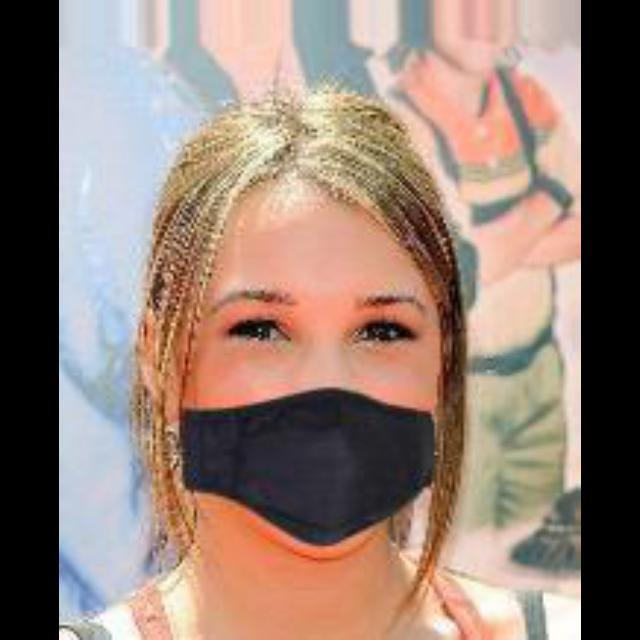suspicion: (190, 132, 450, 548)
